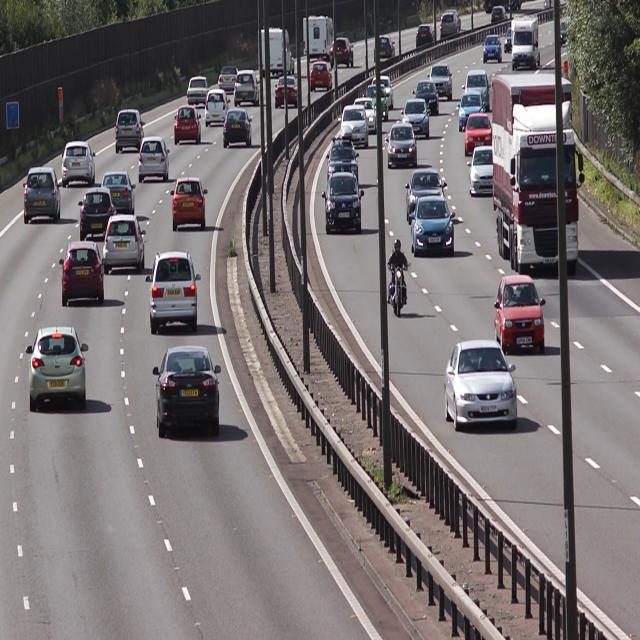Car: (492, 74, 586, 273), (443, 337, 519, 439), (153, 348, 223, 438), (26, 327, 91, 410), (144, 251, 202, 337), (494, 270, 546, 356), (59, 238, 106, 309), (411, 192, 457, 260), (324, 171, 367, 236), (20, 168, 64, 226), (105, 216, 146, 276), (405, 165, 453, 213), (78, 186, 116, 242), (170, 176, 209, 230), (328, 128, 361, 188), (138, 133, 170, 187), (467, 142, 497, 199), (62, 139, 98, 186), (385, 119, 418, 170), (101, 169, 138, 214), (340, 101, 371, 151), (114, 108, 148, 152), (221, 107, 255, 150), (173, 103, 203, 148), (465, 114, 494, 157), (456, 92, 486, 131), (402, 97, 430, 138), (235, 67, 261, 110), (204, 88, 231, 127), (186, 73, 212, 113), (415, 79, 441, 114), (274, 74, 300, 108), (308, 60, 334, 93)
